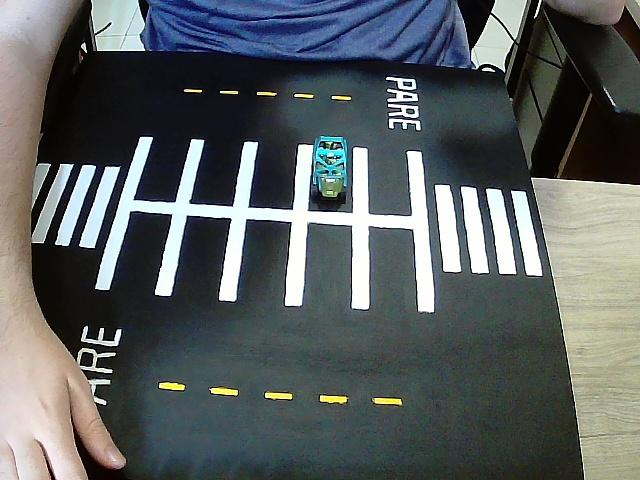Carro: (311, 137, 348, 204)
